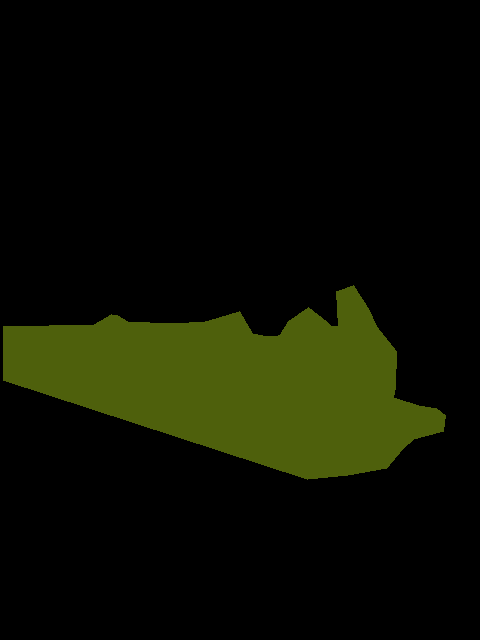Train: (3, 285, 445, 480)
